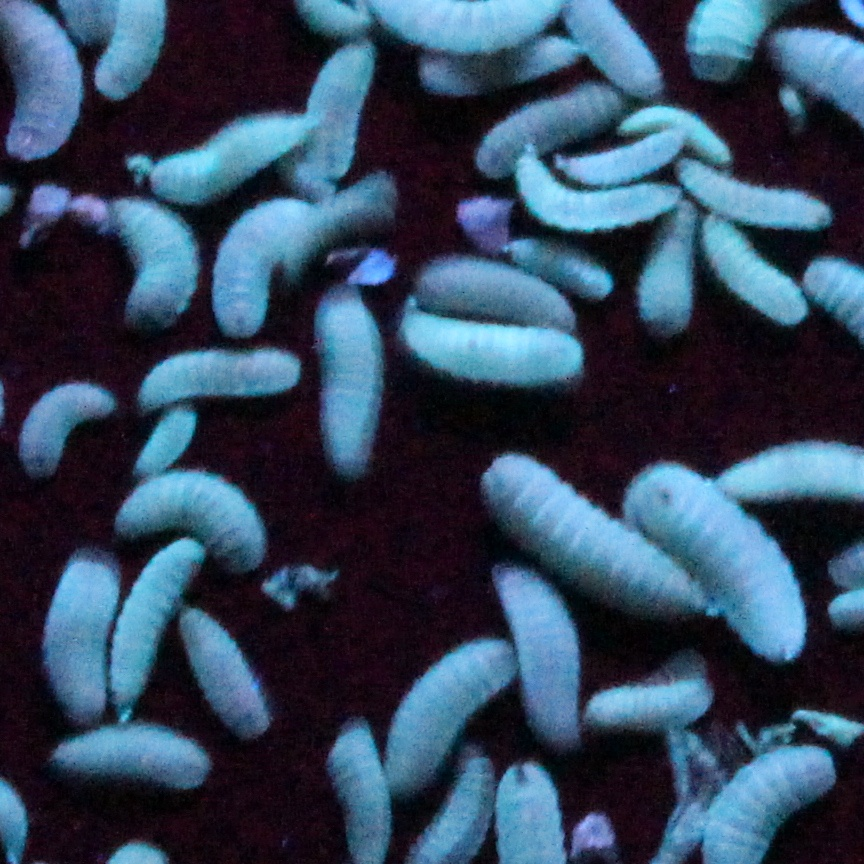larve: (475, 450, 709, 621), (622, 464, 809, 662), (387, 640, 516, 793), (489, 562, 585, 748), (397, 301, 583, 382), (159, 108, 315, 203), (125, 530, 198, 723), (123, 472, 262, 567), (407, 254, 583, 329), (514, 150, 679, 227), (479, 91, 620, 180), (108, 196, 203, 323), (320, 294, 384, 477), (697, 223, 816, 319), (47, 555, 115, 723), (184, 613, 274, 735), (213, 189, 284, 340), (52, 721, 203, 791), (422, 34, 589, 97), (677, 162, 834, 229), (142, 352, 303, 413), (20, 382, 113, 472), (308, 47, 369, 184), (620, 101, 738, 170), (640, 201, 693, 332), (507, 240, 622, 299), (581, 678, 713, 725), (558, 136, 687, 180), (135, 403, 198, 482)
